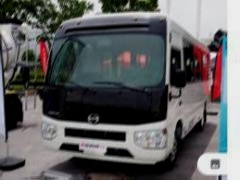bus: (42, 14, 210, 174)
